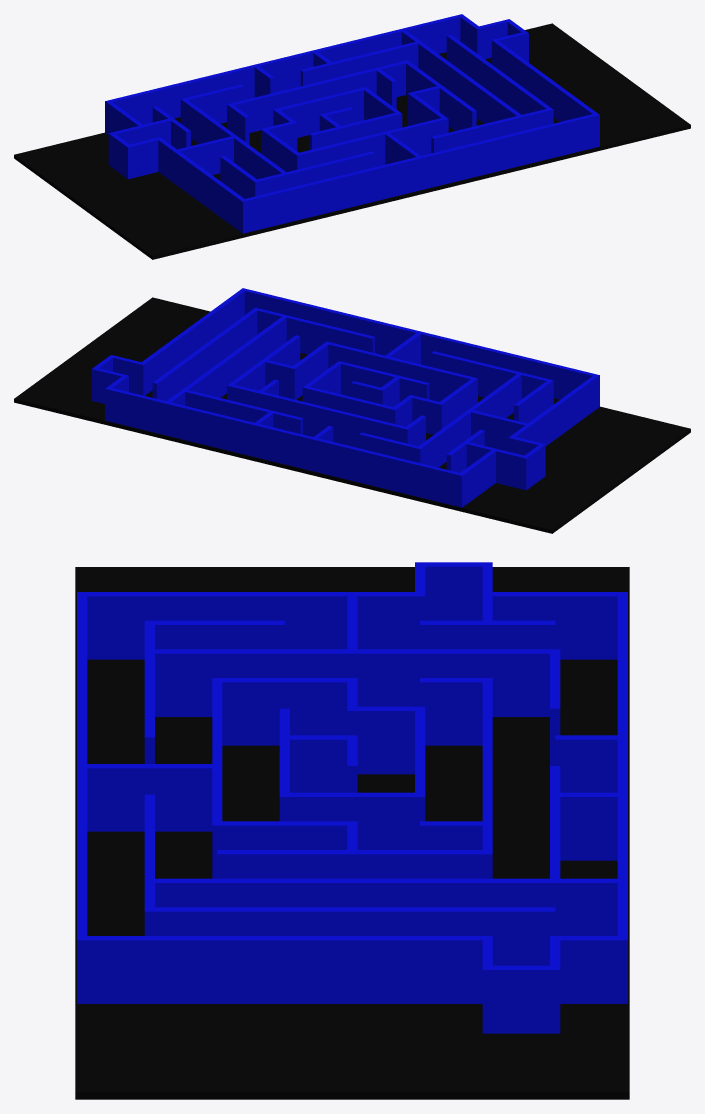
Rendered from Labyrinth2.fbx.
3 views of the same model, one above another, from view 1: azimuth 30°, elevation 25°; view 2: azimuth 150°, elevation 25°; view 3: azimuth 270°, elevation 25° (orthographic). The views are drawn at different scales.
Parts seen in each view (by area): view 1: Lab2; view 2: Lab2; view 3: Lab2.
Part boxes in pixels (box(x1,y1,x2,y2)): Lab2: box(14, 14, 690, 259); Lab2: box(14, 288, 690, 533); Lab2: box(75, 562, 629, 1099).
Bounding box in the file's own units: 60.73 × 3.83 × 27.08.
